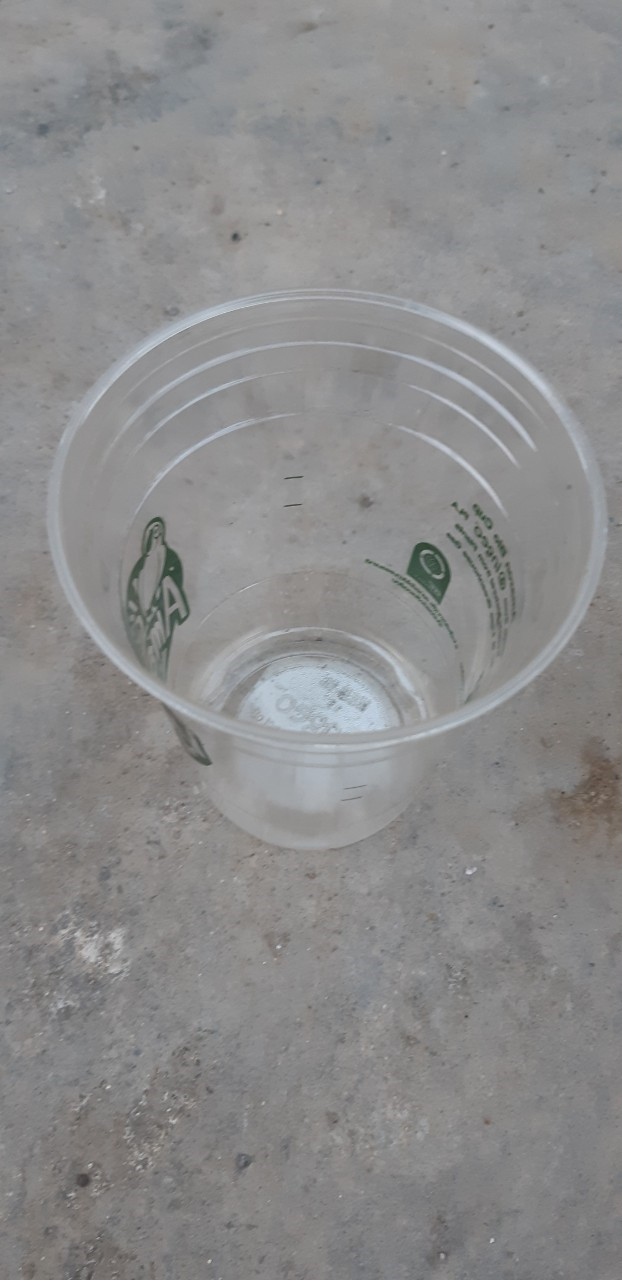PlasticCup: (57, 300, 600, 841)
